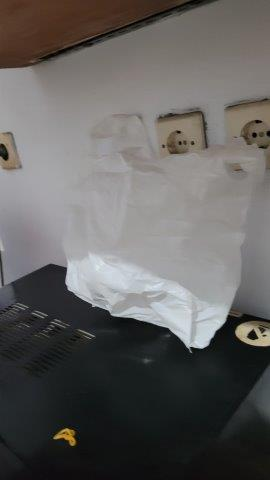plastik: (64, 113, 266, 346)
